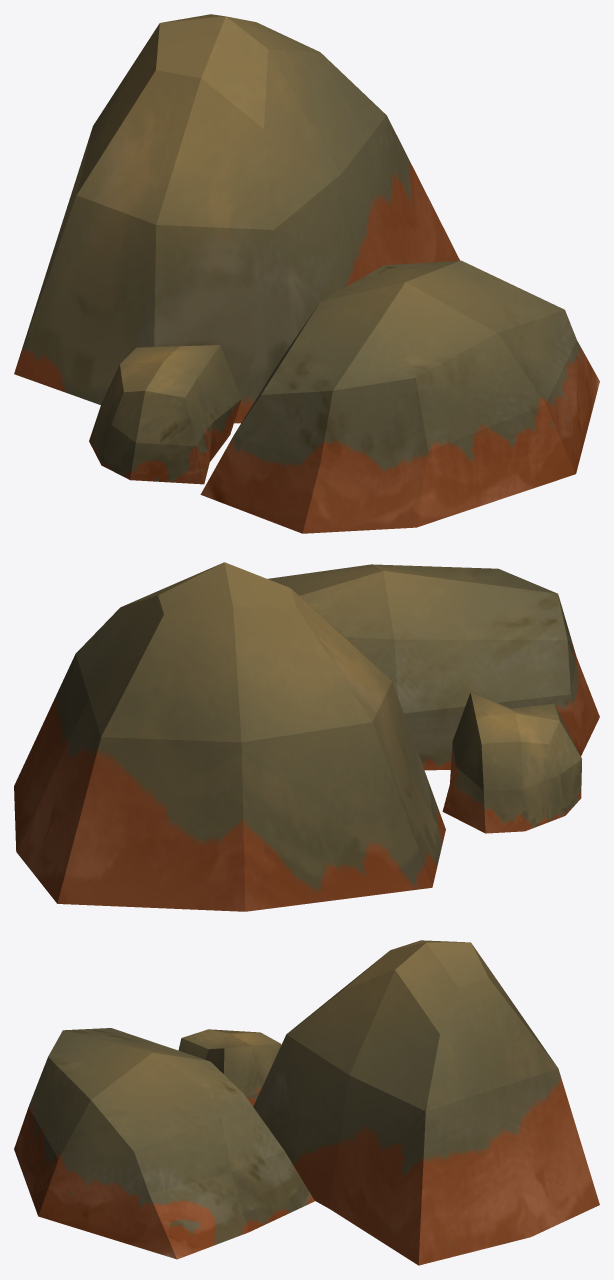
The model's file is Rocks_small.fbx.
3 renders of one model, top to bottom at view 1: azimuth 30°, elevation 25°; view 2: azimuth 150°, elevation 25°; view 3: azimuth 270°, elevation 25°, orthographic. The views are drawn at different scales.
Visible parts, largest first — view 1: Rocks_small; view 2: Rocks_small; view 3: Rocks_small.
Boxes of the visible parts, left/top/right/bottom form: Rocks_small: left=14, top=14, right=599, bottom=533; Rocks_small: left=14, top=562, right=599, bottom=911; Rocks_small: left=14, top=940, right=599, bottom=1265.
Bounding box in the file's own units: 0.4646 × 0.2883 × 0.6332.
